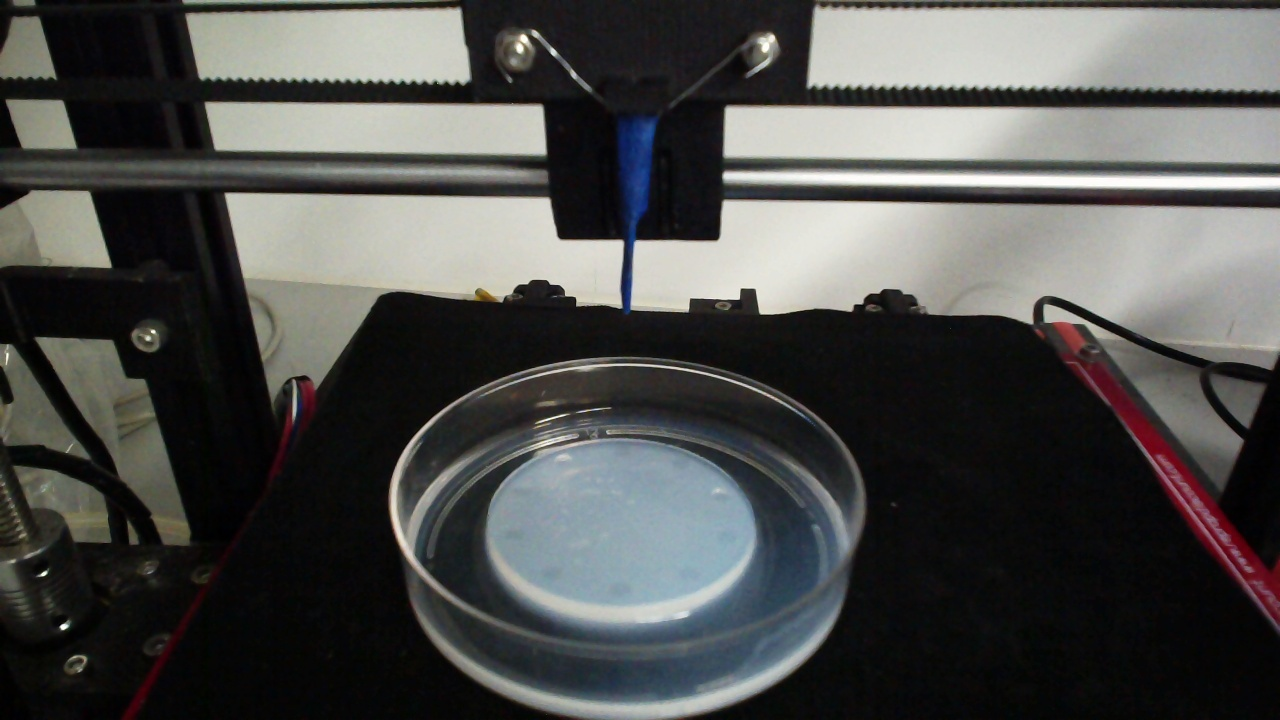groove: (606, 578, 634, 598), (539, 564, 566, 584), (677, 565, 705, 584), (709, 486, 735, 505), (712, 527, 739, 545), (502, 528, 528, 546), (510, 484, 538, 500), (609, 443, 634, 460), (551, 451, 573, 469), (670, 455, 693, 472)
needle: (618, 110, 654, 313)
